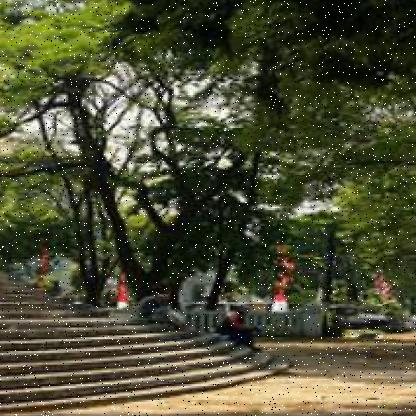stair_up: (1, 283, 274, 400)
